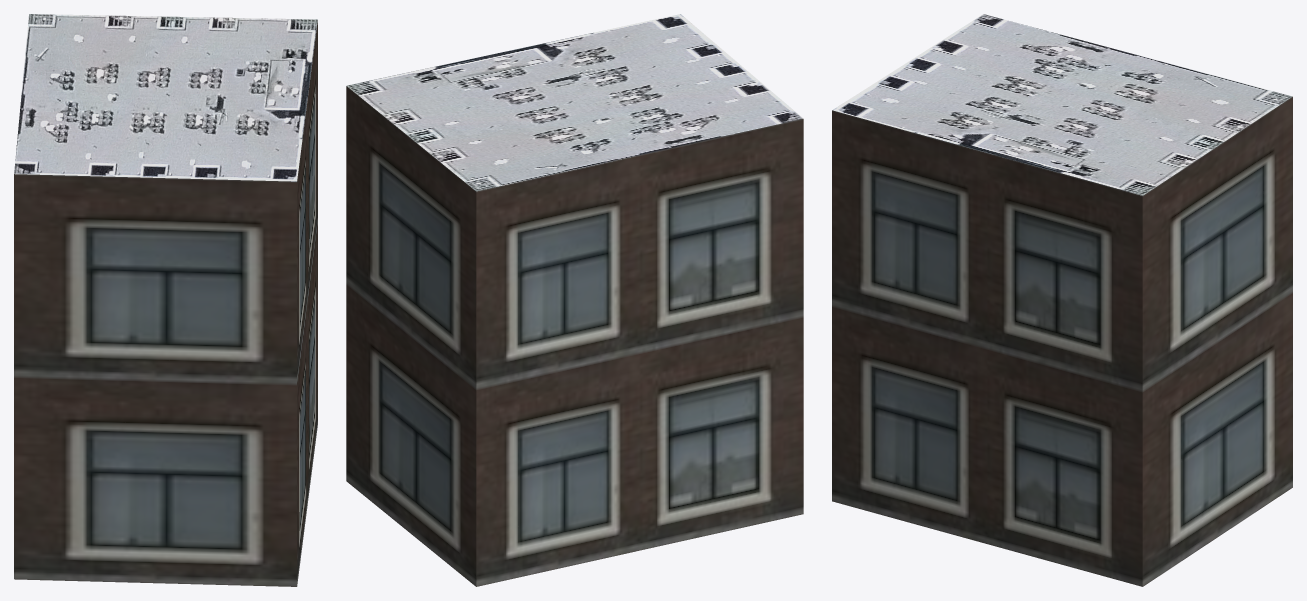
Rendered from ResTex__833.fbx.
The picture shows the model from 3 angles, left to right: view 1: azimuth 30°, elevation 25°; view 2: azimuth 150°, elevation 25°; view 3: azimuth 270°, elevation 25°; orthographic projection. The views are drawn at different scales.
Visible parts, largest first — view 1: CityEngineMaterial_16_m, CityEngineMaterial_15_m; view 2: CityEngineMaterial_16_m, CityEngineMaterial_15_m; view 3: CityEngineMaterial_16_m, CityEngineMaterial_15_m.
Part boxes in pixels (x1=…): CityEngineMaterial_16_m: x1=14, y1=20, x2=317, y2=586; CityEngineMaterial_15_m: x1=14, y1=14, x2=317, y2=181; CityEngineMaterial_16_m: x1=346, y1=86, x2=803, y2=586; CityEngineMaterial_15_m: x1=346, y1=14, x2=803, y2=191; CityEngineMaterial_16_m: x1=832, y1=96, x2=1292, y2=586; CityEngineMaterial_15_m: x1=832, y1=14, x2=1292, y2=195.
Bounding box in the file's own units: 5.99 × 6 × 6.41.
2 materials, 2 textured.
